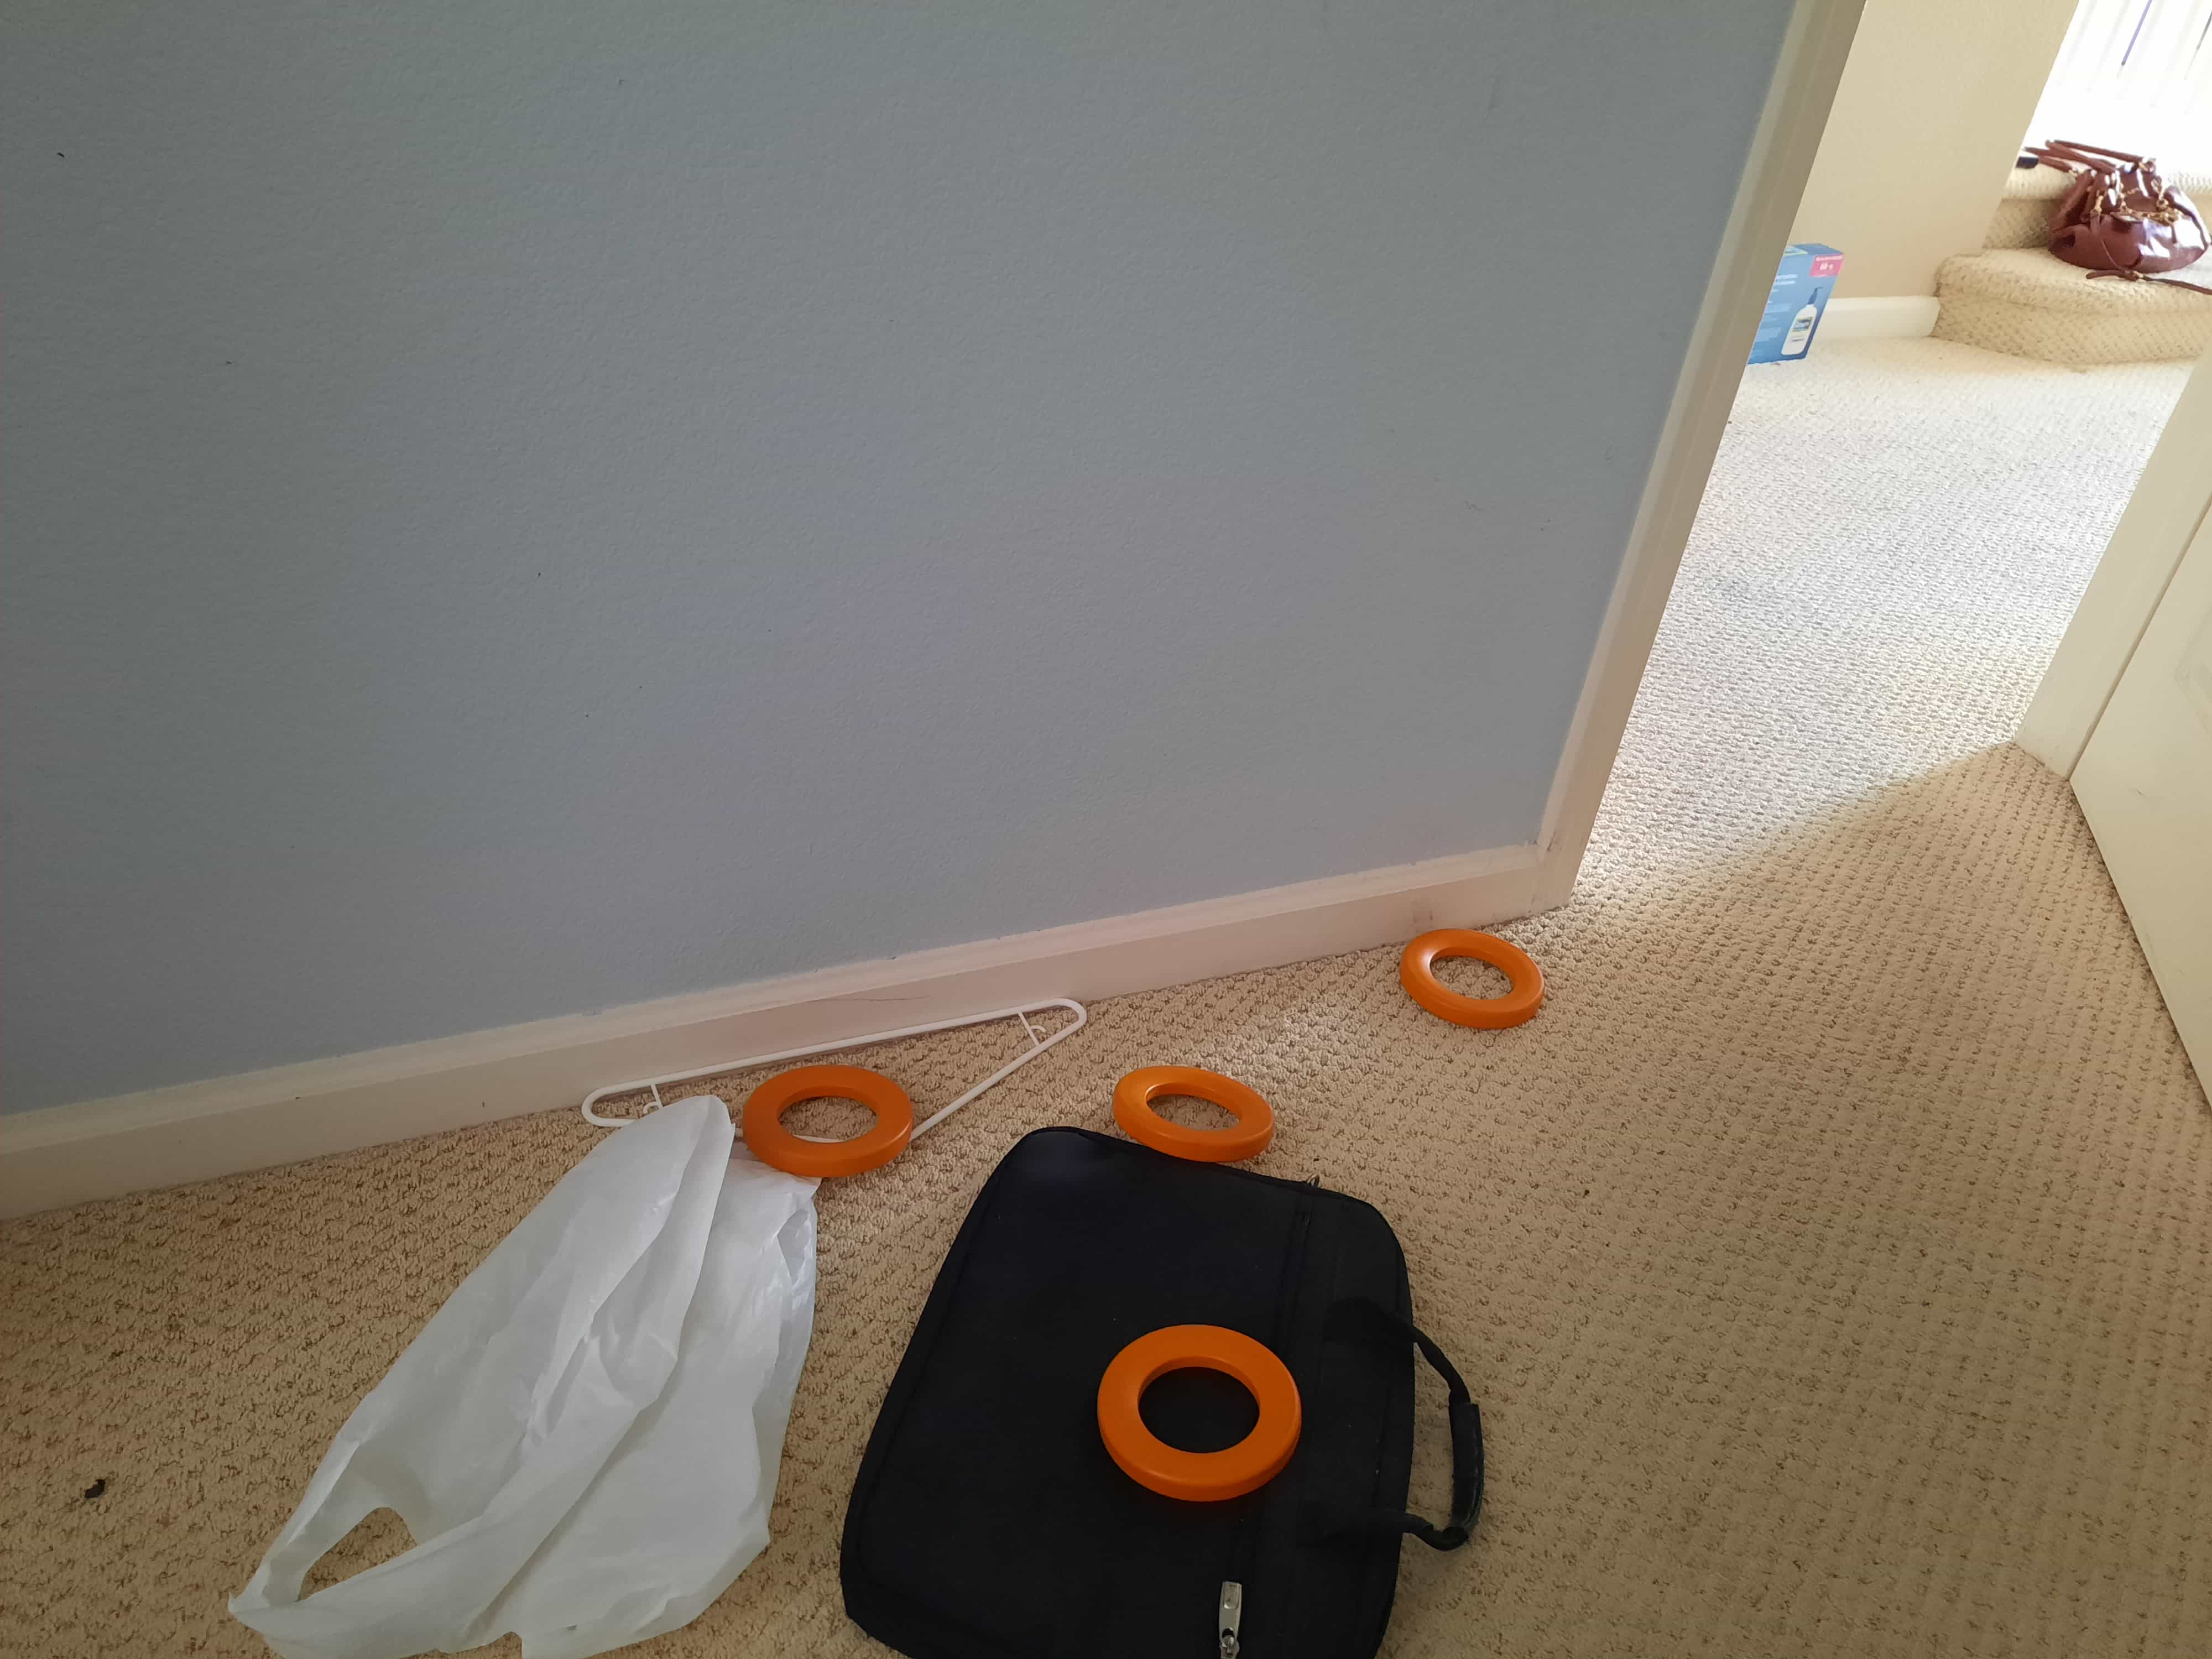OneStack: (1106, 1319, 1301, 1485), (1106, 1056, 1282, 1166), (747, 1068, 916, 1175), (1402, 927, 1547, 1032)
